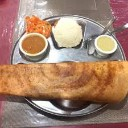dosa: (1, 60, 127, 104)
